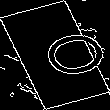O_W: (13, 26, 97, 84)
